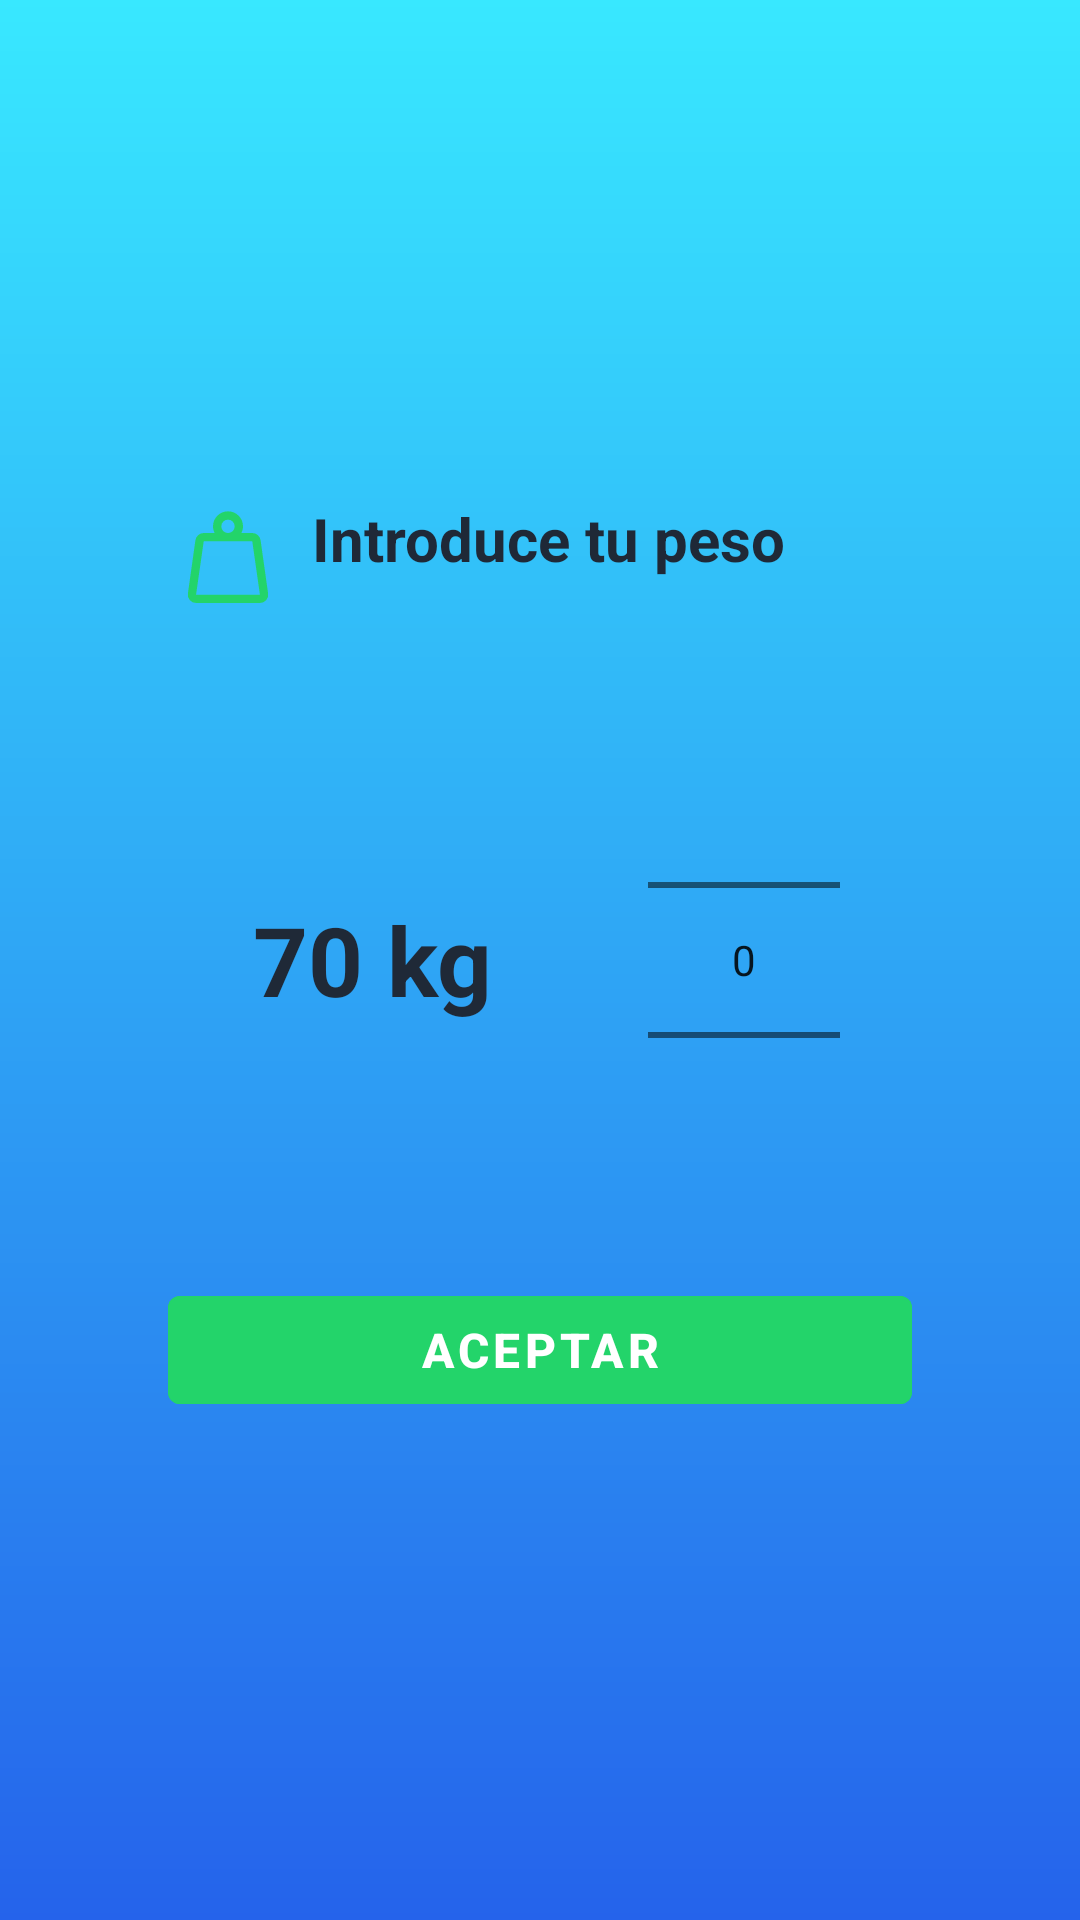

Icons on this 1080*1920 Android screen, each with the point to tap as (x=x, y=y):
weight: (x=228, y=557)
